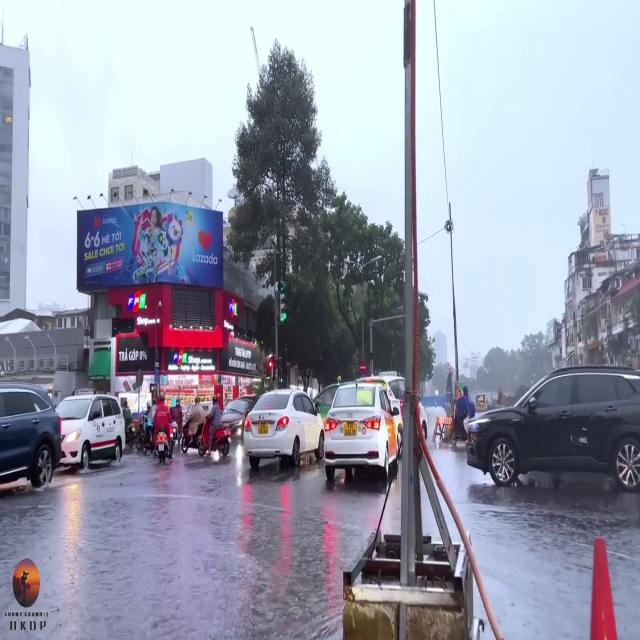bien_vang: (343, 420, 356, 436), (258, 423, 268, 433)
